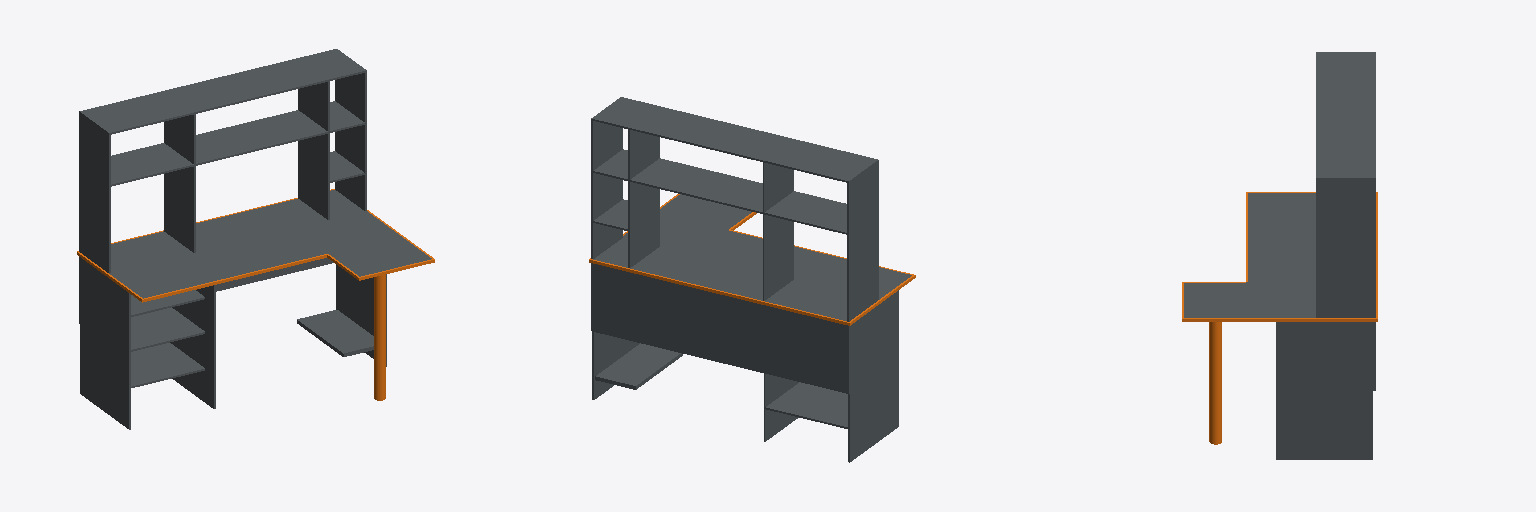
File: tinker.obj
3 views of the same model, side by side, from view 1: azimuth 30°, elevation 25°; view 2: azimuth 150°, elevation 25°; view 3: azimuth 270°, elevation 25° (orthographic).
Visible parts, largest first — view 1: obj_0; view 2: obj_0; view 3: obj_0.
Part boxes in pixels (x1,y1,x2,y2): obj_0: (77, 49, 434, 429); obj_0: (589, 97, 915, 462); obj_0: (1182, 52, 1377, 459).
Size of the model in its own units: 142 by 146 by 92.